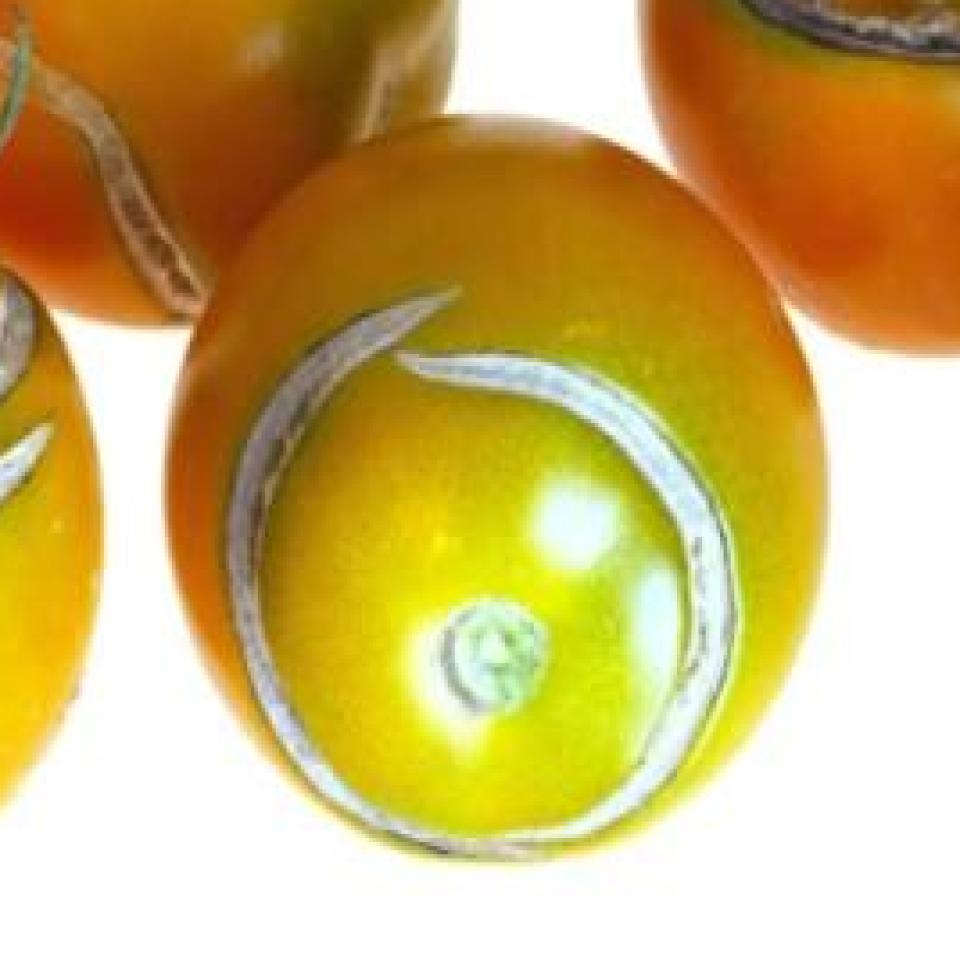Blossom_end_rot: (705, 0, 960, 89)
Cracking: (389, 332, 733, 860), (214, 244, 451, 852), (0, 12, 218, 330), (0, 394, 75, 516), (0, 252, 36, 398)
